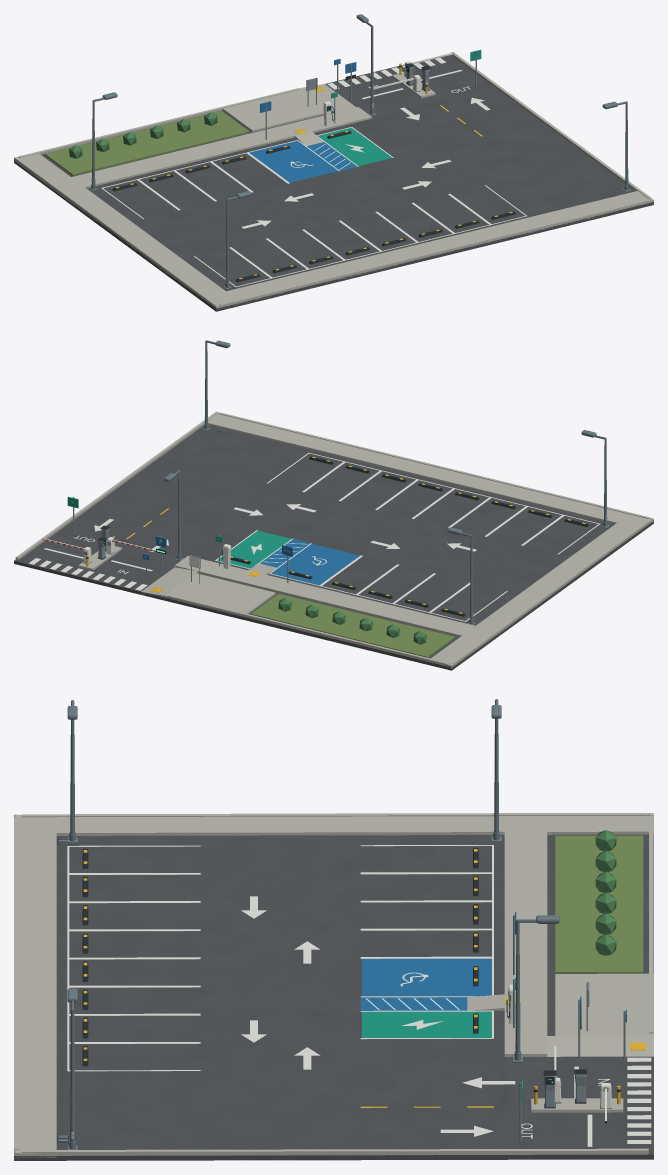
Rendered from SIMUS_Outdoor_ParkingLot_Complete.fbx.
3 renders of one model, top to bottom at view 1: azimuth 30°, elevation 25°; view 2: azimuth 150°, elevation 25°; view 3: azimuth 270°, elevation 25°, orthographic. The views are drawn at different scales.
Parts seen in each view (by area): view 1: COLM_Walk_Rear, COLM_Walk_West, Front_Green_Strip, Asphalt_Tile_2_1, COLM_Walk_Front, Asphalt_Tile_4_1, Asphalt_Tile_1_1, Asphalt_Tile_3_1, Asphalt_Tile_4_2, Asphalt_Tile_1_2, Asphalt_Tile_3_2, Asphalt_Tile_4_0 (+17 smaller); view 2: COLM_Walk_Rear, COLM_Walk_West, Asphalt_Tile_2_1, Front_Green_Strip, COLM_Walk_Front, Asphalt_Tile_3_1, Asphalt_Tile_4_1, Asphalt_Tile_1_1, Asphalt_Tile_4_2, Asphalt_Tile_1_2, Asphalt_Tile_4_3, Asphalt_Tile_0_1 (+17 smaller); view 3: COLM_Walk_Rear, COLM_Walk_West, Asphalt_Tile_4_1, Asphalt_Tile_2_1, Asphalt_Tile_4_2, Asphalt_Tile_1_1, Asphalt_Tile_3_1, Front_Green_Strip, Asphalt_Tile_1_2, COLM_Walk_Front, Asphalt_Tile_4_3, Asphalt_Tile_3_2 (+18 smaller).
Part boxes in pixels (x1,y1,x2,y2): COLM_Walk_Rear: (226,191,653,302); COLM_Walk_West: (14,153,239,308); Front_Green_Strip: (45,111,249,175); Asphalt_Tile_2_1: (290,170,427,228); COLM_Walk_Front: (71,107,371,188); Asphalt_Tile_4_1: (465,128,600,185); Asphalt_Tile_1_1: (203,191,340,249); Asphalt_Tile_3_1: (378,149,515,207); Asphalt_Tile_4_2: (415,91,549,148); Asphalt_Tile_1_2: (153,155,289,212); Asphalt_Tile_3_2: (352,111,464,169); Asphalt_Tile_4_0: (516,165,653,226); COLM_Walk_Rear: (208,412,628,523); COLM_Walk_West: (428,514,653,668); Asphalt_Tile_2_1: (291,493,427,551); Front_Green_Strip: (251,593,455,657); COLM_Walk_Front: (174,555,475,636); Asphalt_Tile_3_1: (203,472,340,529); Asphalt_Tile_4_1: (118,451,252,508); Asphalt_Tile_1_1: (378,514,515,572); Asphalt_Tile_4_2: (67,488,201,545); Asphalt_Tile_1_2: (328,551,464,608); Asphalt_Tile_4_3: (14,525,151,585); Asphalt_Tile_0_1: (465,536,603,596); COLM_Walk_Rear: (14,833,56,1157); COLM_Walk_West: (14,815,653,835); Asphalt_Tile_4_1: (174,1087,333,1160); Asphalt_Tile_2_1: (174,952,333,1020); Asphalt_Tile_4_2: (334,1087,493,1160); Asphalt_Tile_1_1: (174,885,333,952); Asphalt_Tile_3_1: (174,1020,333,1087); Front_Green_Strip: (555,835,643,973); Asphalt_Tile_1_2: (334,884,491,952); COLM_Walk_Front: (504,832,547,1056); Asphalt_Tile_4_3: (494,1087,653,1159); Asphalt_Tile_3_2: (334,1020,493,1087).
Size of the model in its own units: 3000 by 619 by 2400.
